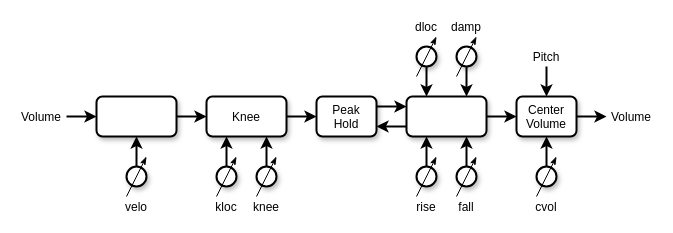
Some shapes in this 673 by 233 pixel diagram are drawn without their labels. The centre of each missing label's shape, as x and y in pixels:
"Envelope Generator" belongs at (x=447, y=117).
"Velocity Detector" belongs at (x=137, y=117).
